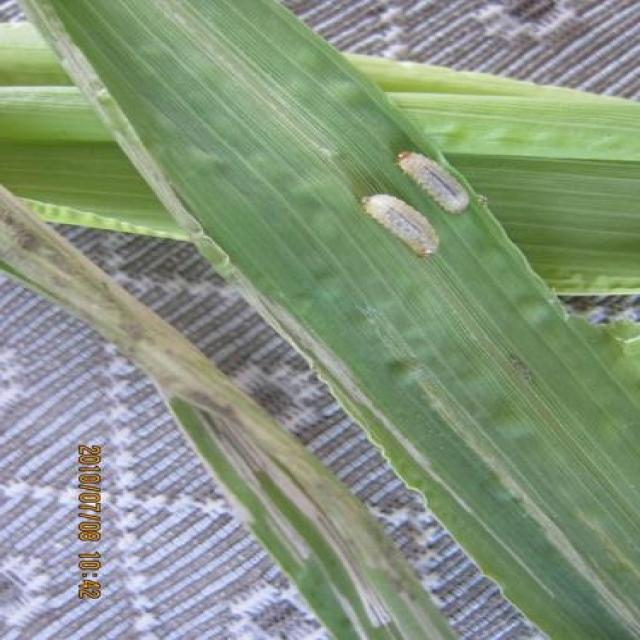army worm: (356, 192, 445, 261), (396, 152, 476, 216)
